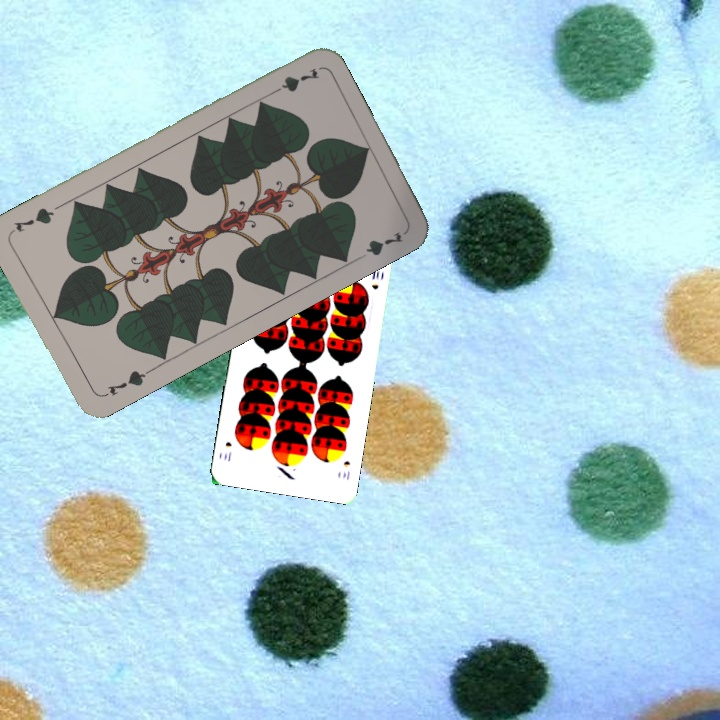G7: (265, 63, 322, 99), (98, 366, 153, 401)
S10: (339, 457, 352, 482)
